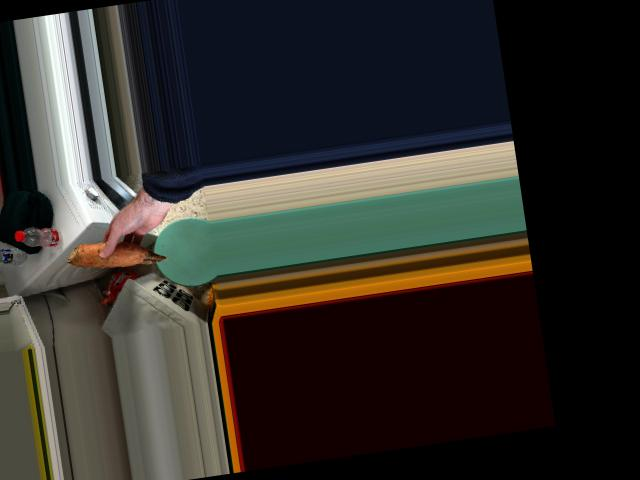sweet_potato: (72, 233, 169, 274)
